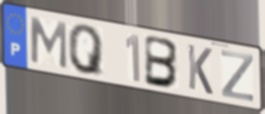1: (125, 33, 141, 84)
B: (143, 33, 181, 90)
K: (186, 42, 215, 98)
M: (29, 15, 69, 72)
Q: (67, 23, 106, 78)
Z: (220, 48, 256, 104)
